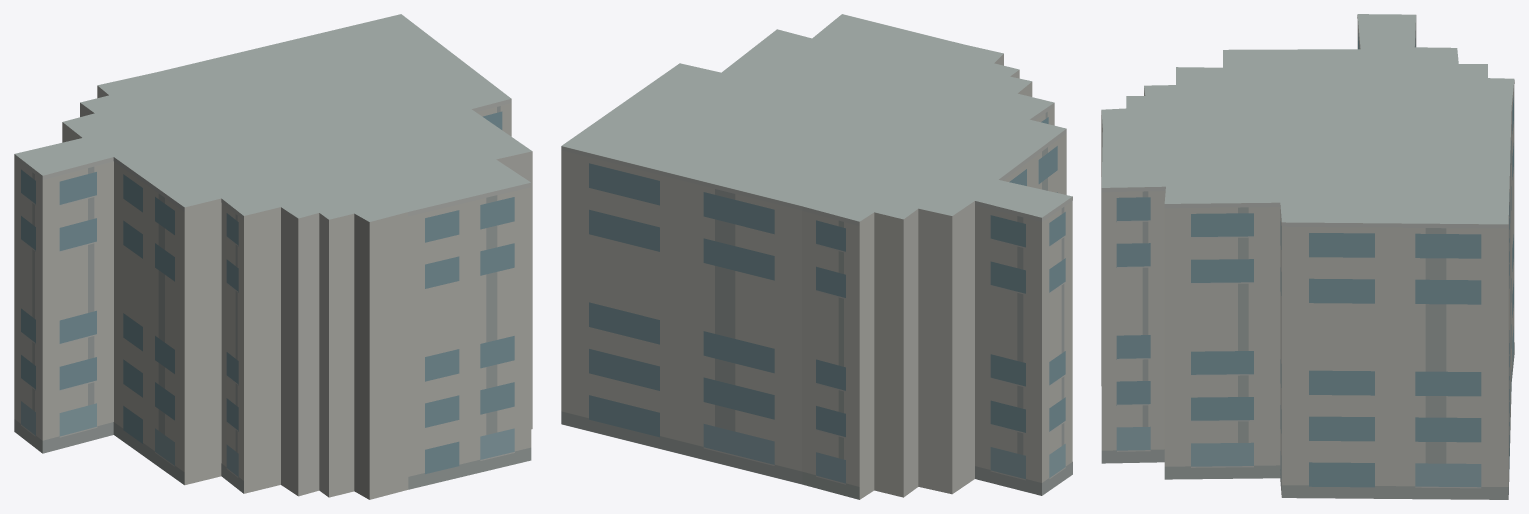
Rendered from survey-upis-32810066.glb.
The picture shows the model from 3 angles, left to right: view 1: azimuth 30°, elevation 25°; view 2: azimuth 150°, elevation 25°; view 3: azimuth 270°, elevation 25°; orthographic projection.
Visible parts, largest first — view 1: survey-upis-32810066.tmp; view 2: survey-upis-32810066.tmp; view 3: survey-upis-32810066.tmp.
Boxes of the visible parts, x1,y1,x2,y2 form: survey-upis-32810066.tmp: (14, 14, 532, 499); survey-upis-32810066.tmp: (561, 14, 1072, 499); survey-upis-32810066.tmp: (1101, 14, 1514, 499).
Bounding box in the file's own units: 25.36 × 15.48 × 21.04.
